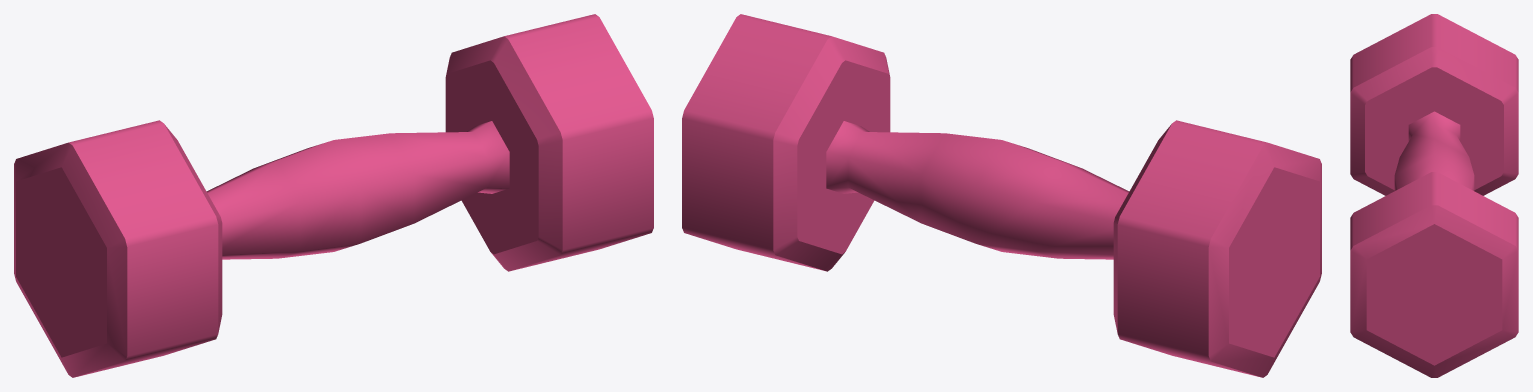
Rendered from 79_prop_dumbbell.FBX.
The picture shows the model from 3 angles, left to right: view 1: azimuth 30°, elevation 25°; view 2: azimuth 150°, elevation 25°; view 3: azimuth 270°, elevation 25°; orthographic projection. The views are drawn at different scales.
Parts seen in each view (by area): view 1: prop_dumbbell; view 2: prop_dumbbell; view 3: prop_dumbbell.
Boxes of the visible parts, left/top/right/bottom form: prop_dumbbell: left=14, top=14, right=653, bottom=377; prop_dumbbell: left=682, top=14, right=1321, bottom=377; prop_dumbbell: left=1350, top=14, right=1518, bottom=377.
Bounding box in the file's own units: 16.15 × 6.58 × 5.81.
